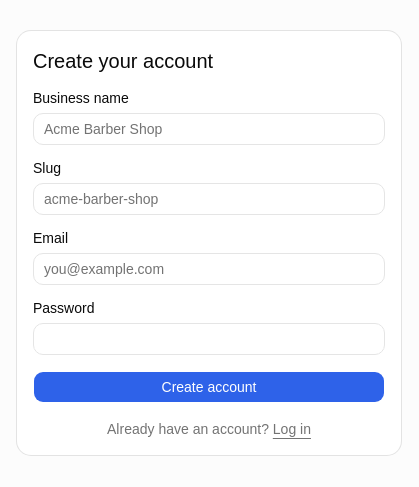
Test: Register page › shows "Email already registered" on email field for email_taken
This screenshot has width=419, height=487.
Type "Test Biz" into the field labelled "Business name" at {"x": 209, "y": 129}, box [33,113,385,145]
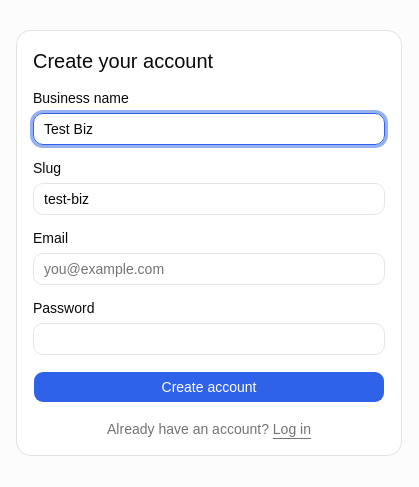
Type "taken@test.com" into the field labelled "Email" at {"x": 209, "y": 269}, box [33,253,385,285]
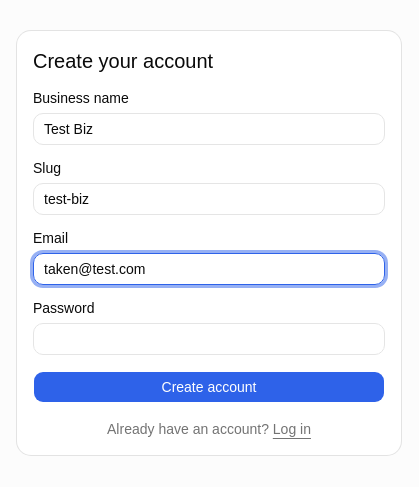
Type "password123" into the password field labelled "Password" at {"x": 209, "y": 339}, box [33,323,385,355]
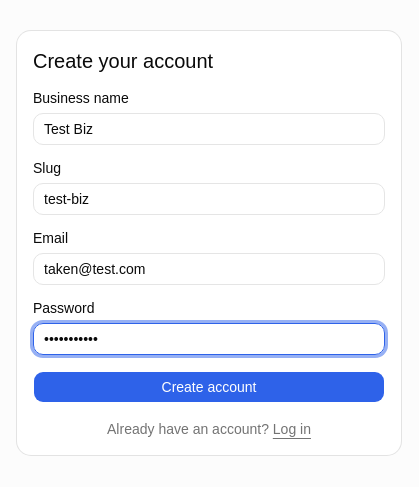
Click the button "Create account" at {"x": 209, "y": 387}, box [33,371,385,403]
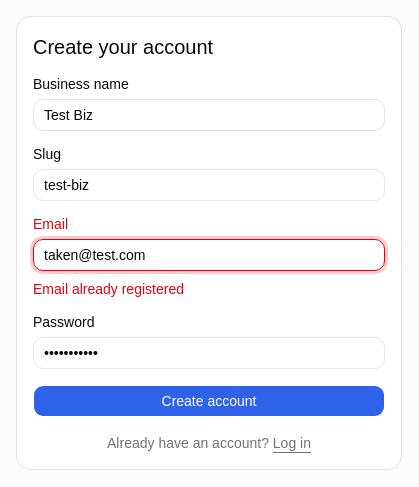
Expected: the text "Email already registered" is shown, [33,281,184,297]
